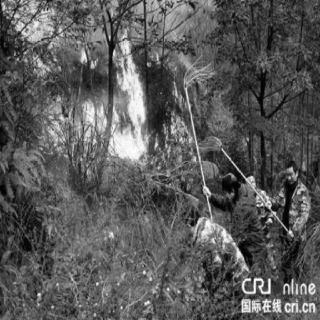Fire: (2, 3, 198, 173)
